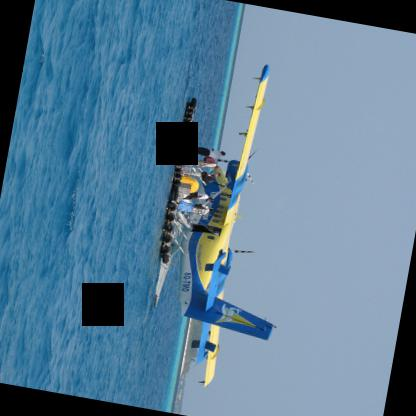backpack: (202, 156, 214, 163), (200, 176, 213, 182)
handbag: (193, 203, 206, 209)
suitcase: (177, 182, 189, 194)
